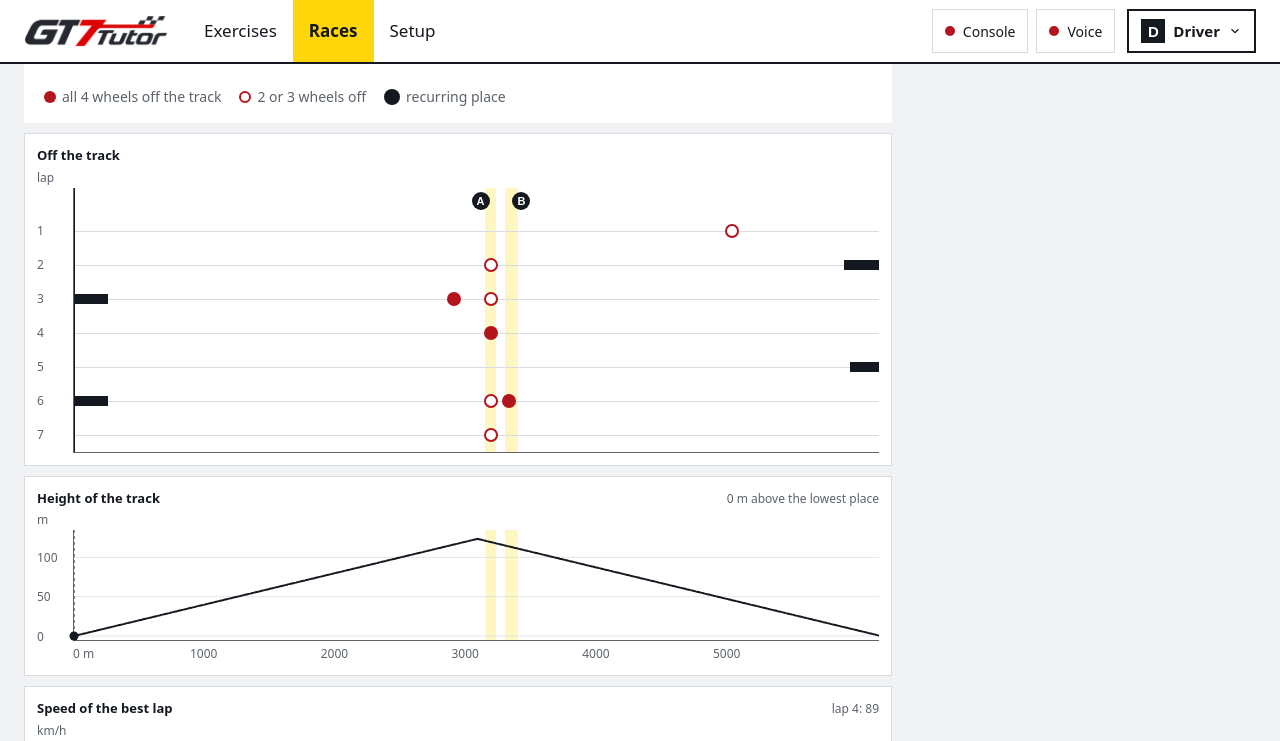
Test: race page, off the track tab › opens_the_box_above_a_moment_in_the_lower_half_of_the_strip
(page scrolled)
Click the button named "Lap 6, 3,330 m" at (509, 400), box [495, 386, 523, 414]
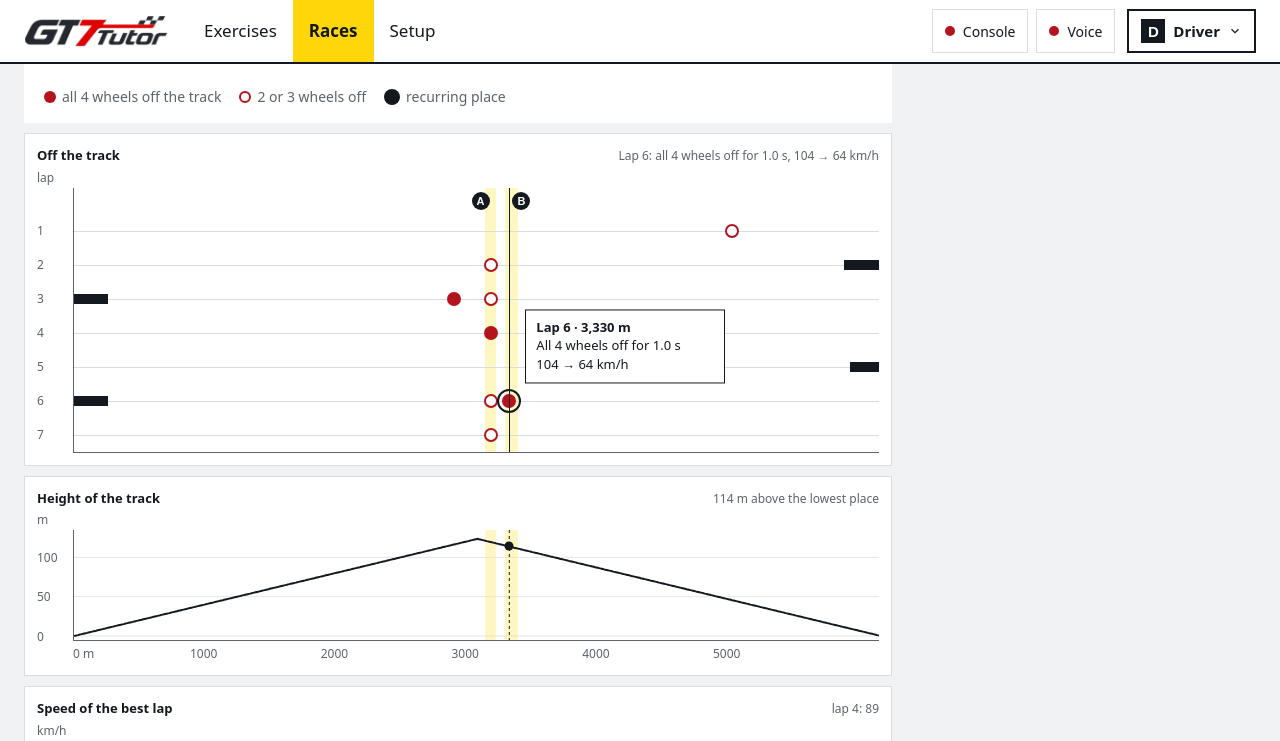
Click the button named "Lap 1, 5,040 m" at (732, 230), box [718, 216, 746, 244]
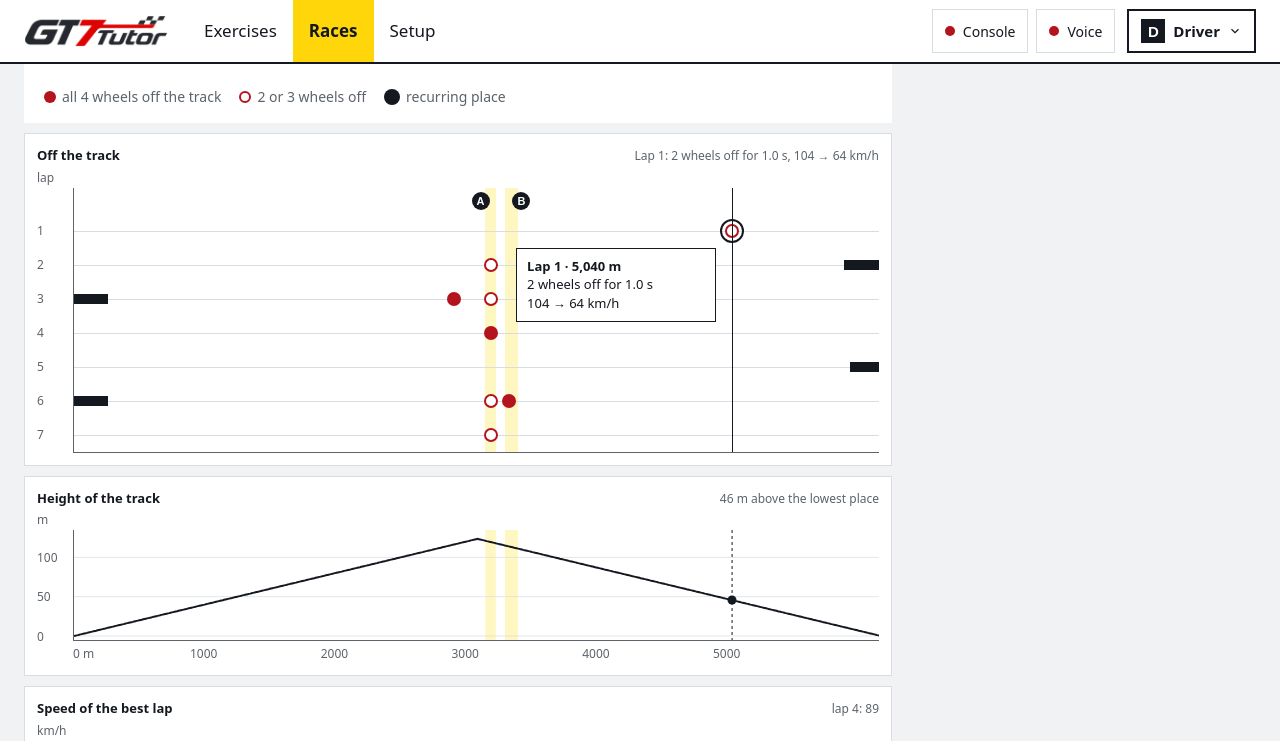
Check: the element with class "strip-box" does not have class "up", box [516, 248, 716, 322]
